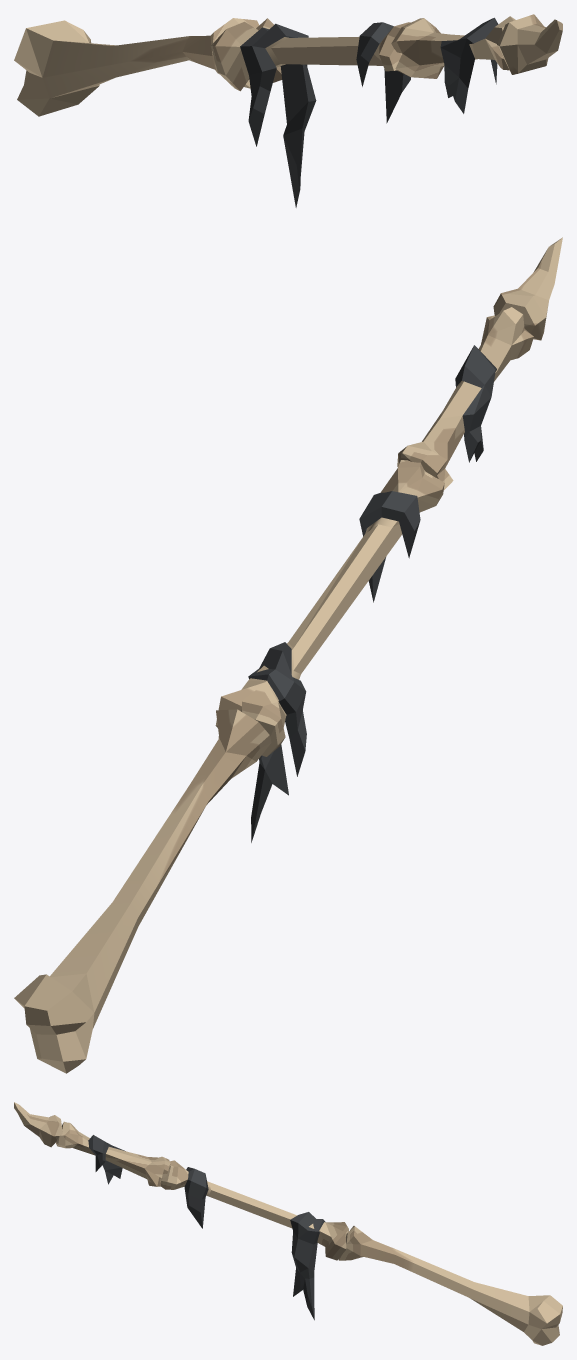
File: SM_Veh_Ship_S_Bowsprit_02.fbx
3 views of the same model, one above another, from view 1: azimuth 30°, elevation 25°; view 2: azimuth 150°, elevation 25°; view 3: azimuth 270°, elevation 25° (orthographic). The views are drawn at different scales.
Parts seen in each view (by area): view 1: SM_Veh_Ship_S_Bowsprit_02, SM_Veh_Ship_S_Bowsprit_02_Cloth; view 2: SM_Veh_Ship_S_Bowsprit_02, SM_Veh_Ship_S_Bowsprit_02_Cloth; view 3: SM_Veh_Ship_S_Bowsprit_02, SM_Veh_Ship_S_Bowsprit_02_Cloth.
Part boxes in pixels (bbox=[...]): SM_Veh_Ship_S_Bowsprit_02: bbox=[14, 14, 562, 116]; SM_Veh_Ship_S_Bowsprit_02_Cloth: bbox=[240, 17, 498, 207]; SM_Veh_Ship_S_Bowsprit_02: bbox=[14, 237, 562, 1073]; SM_Veh_Ship_S_Bowsprit_02_Cloth: bbox=[248, 345, 496, 842]; SM_Veh_Ship_S_Bowsprit_02: bbox=[14, 1102, 562, 1345]; SM_Veh_Ship_S_Bowsprit_02_Cloth: bbox=[88, 1135, 325, 1320].
Size of the model in its own units: 72.55 by 430 by 880.
